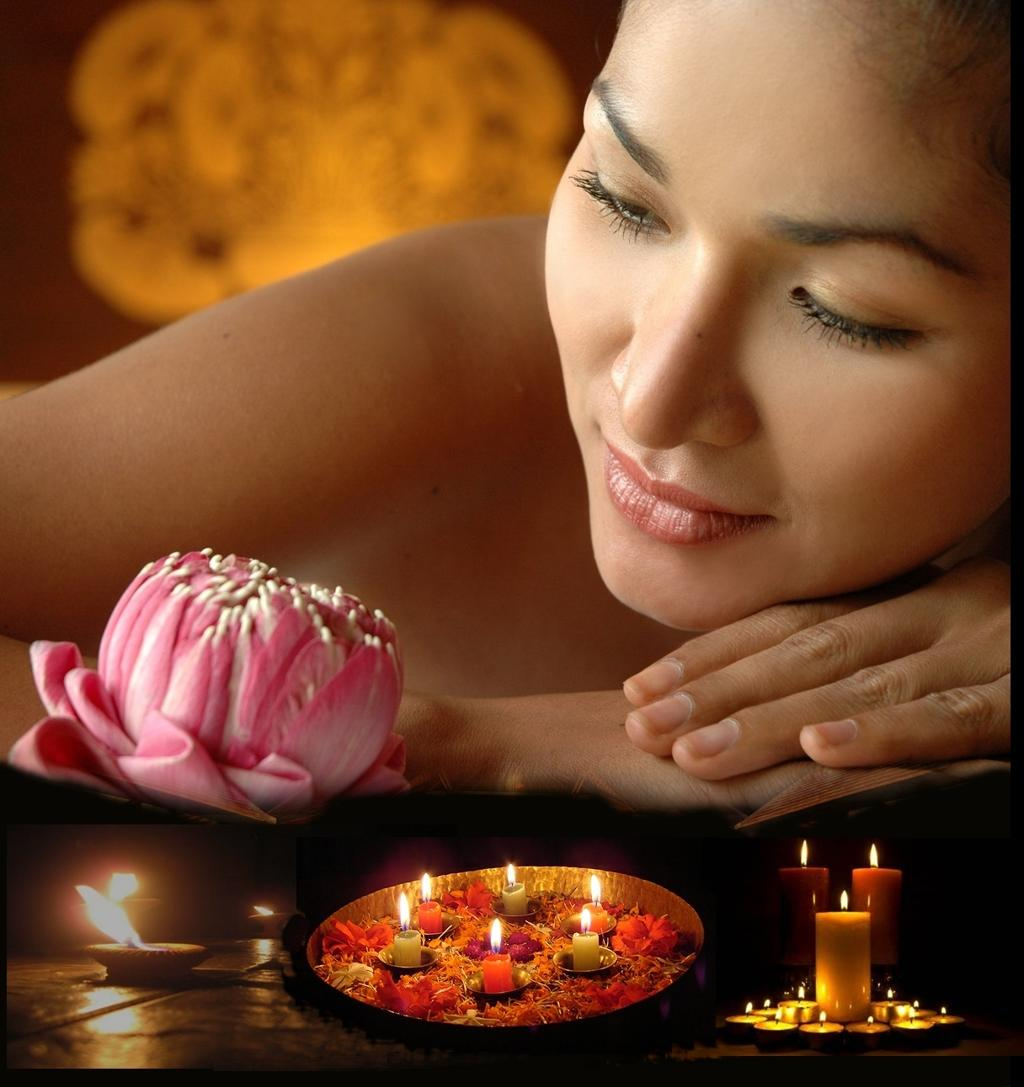face: (541, 28, 1005, 617)
